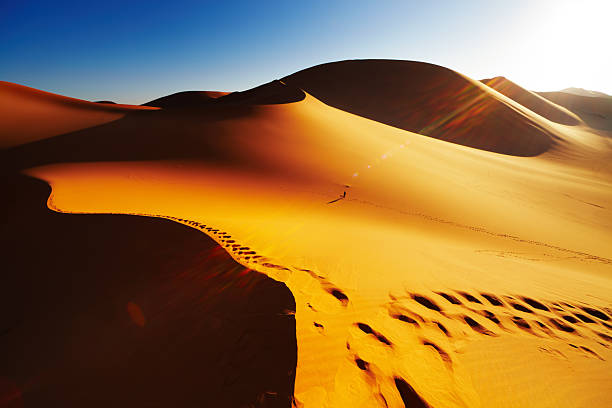human_foot_print: (162, 216, 611, 406)
